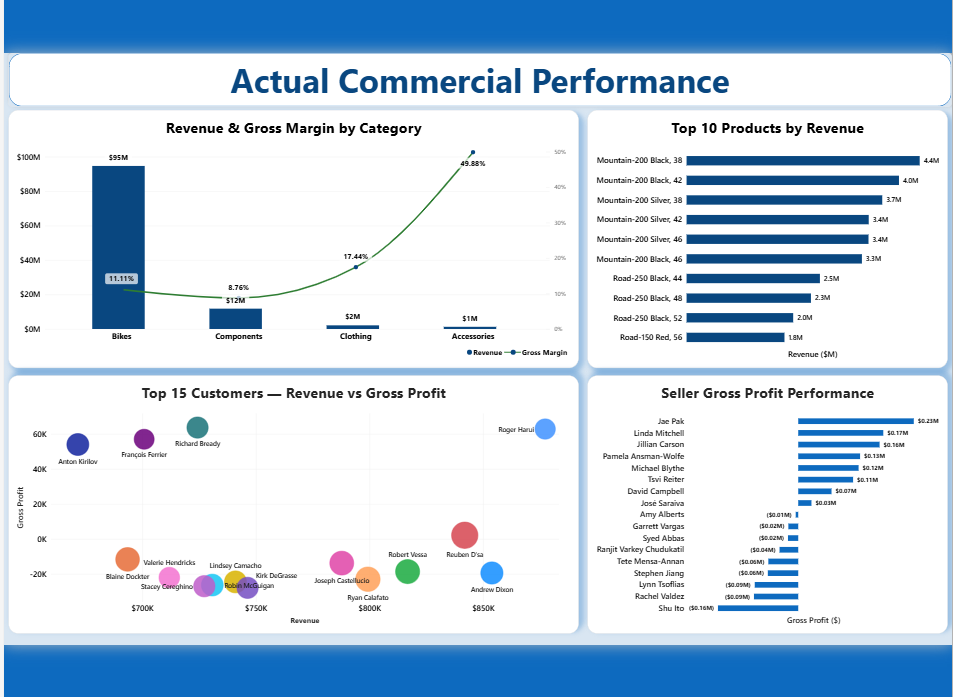

The page's visual inventory and layout, read from the dashboard file:
{"tool":"powerbi","page":{"name":"Actual Commercial Performance","canvas":[1920,1200],"ordinal":1},"visuals":[{"type":"shape","box":[9.1,0,1910.9,109.4],"z":0},{"type":"lineClusteredColumnComboChart","title":"Revenue & Gross Margin by Category","fields":{"Category":["AW_Category_Performance.ProductCategory"],"Y":["Sum(AW_Category_Performance.Revenue)"],"Y2":["Sum(AW_Category_Performance.GrossMarginPct)"]},"box":[9.1,115.4,1154.4,522.5],"z":1000},{"type":"clusteredBarChart","title":"Top 10 Products by Revenue","fields":{"Category":["AW_Product_Performance.ProductName"],"Y":["Sum(AW_Product_Performance.Revenue)"]},"box":[1181.8,115.4,729.1,522.5],"z":2000},{"type":"scatterChart","title":"Top 15 Customers — Revenue vs Gross Profit","fields":{"Series":["AW_Customer_Performance.CustomerName"],"Size":["Sum(AW_Customer_Performance.SalesLines)"],"X":["Sum(AW_Customer_Performance.Revenue)"],"Y":["Sum(AW_Customer_Performance.GrossProfit)"]},"box":[9.1,653.2,1154.4,522.5],"z":3000},{"type":"clusteredBarChart","title":"Seller Gross Profit Performance","fields":{"Category":["AW_Seller_Performance.SalesPersonName"],"Y":["Sum(AW_Seller_Performance.GrossProfit)"]},"box":[1181.8,653.2,729.1,522.5],"z":4000}]}

Visuals, with their boxes on the page's 1920x1200 design canvas (x1, y1, x2, y2). These are canvas units, not pixel positions in the 955x697 screenshot, which may show the page scaled, cropped or inside an application window:
shape: <region>9, 0, 1920, 109</region>
"Revenue & Gross Margin by Category" lineClusteredColumnComboChart: <region>9, 115, 1164, 638</region>
"Top 10 Products by Revenue" clusteredBarChart: <region>1182, 115, 1911, 638</region>
"Top 15 Customers — Revenue vs Gross Profit" scatterChart: <region>9, 653, 1164, 1176</region>
"Seller Gross Profit Performance" clusteredBarChart: <region>1182, 653, 1911, 1176</region>
